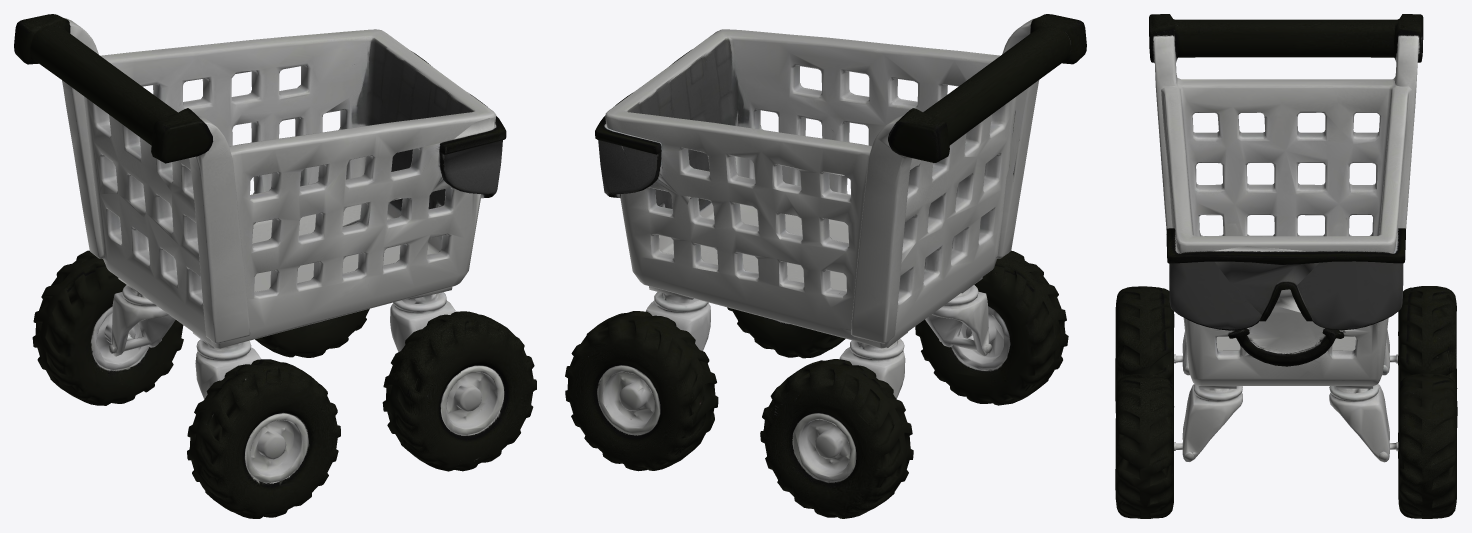
File: cartrave4.glb
3 views of the same model, side by side, from view 1: azimuth 30°, elevation 25°; view 2: azimuth 150°, elevation 25°; view 3: azimuth 270°, elevation 25° (orthographic). The views are drawn at different scales.
Visible parts, largest first — view 1: tripo_part_0, tripo_part_3, tripo_part_2, tripo_part_4, tripo_part_15, tripo_part_10, tripo_part_16, tripo_part_13, tripo_part_1, tripo_part_9, tripo_part_6, tripo_part_5 (+1 smaller); view 2: tripo_part_0, tripo_part_1, tripo_part_4, tripo_part_2, tripo_part_16, tripo_part_10, tripo_part_15, tripo_part_3, tripo_part_5, tripo_part_11, tripo_part_14, tripo_part_13 (+1 smaller); view 3: tripo_part_0, tripo_part_10, tripo_part_1, tripo_part_3, tripo_part_8, tripo_part_11, tripo_part_2, tripo_part_4, tripo_part_9, tripo_part_6, tripo_part_14, tripo_part_16 (+2 smaller).
Part boxes in pixels (box(x1,y1,x2,y2)): tripo_part_0: box(84, 29, 496, 348); tripo_part_3: box(382, 311, 536, 471); tripo_part_2: box(187, 359, 340, 518); tripo_part_4: box(32, 250, 183, 405); tripo_part_15: box(151, 108, 250, 343); tripo_part_10: box(30, 25, 177, 145); tripo_part_16: box(14, 14, 103, 258); tripo_part_13: box(108, 278, 175, 356); tripo_part_1: box(255, 308, 369, 357); tripo_part_9: box(439, 140, 502, 198); tripo_part_6: box(390, 287, 455, 351); tripo_part_5: box(193, 332, 260, 399); tripo_part_0: box(605, 29, 1015, 348); tripo_part_1: box(565, 311, 718, 471); tripo_part_4: box(760, 359, 913, 518); tripo_part_2: box(915, 250, 1068, 405); tripo_part_16: box(851, 108, 949, 343); tripo_part_10: box(923, 26, 1070, 145); tripo_part_15: box(997, 14, 1086, 258); tripo_part_3: box(727, 307, 845, 358); tripo_part_5: box(925, 277, 989, 356); tripo_part_11: box(598, 140, 661, 197); tripo_part_14: box(646, 286, 710, 350); tripo_part_13: box(839, 332, 907, 398); tripo_part_0: box(1161, 78, 1411, 385); tripo_part_10: box(1172, 19, 1398, 57); tripo_part_1: box(1397, 373, 1457, 518); tripo_part_3: box(1115, 374, 1174, 518); tripo_part_8: box(1166, 228, 1405, 321); tripo_part_11: box(1297, 261, 1403, 330); tripo_part_2: box(1115, 286, 1175, 412); tripo_part_4: box(1397, 286, 1457, 395); tripo_part_9: box(1169, 261, 1261, 330); tripo_part_6: box(1182, 384, 1242, 461); tripo_part_14: box(1329, 384, 1389, 462); tripo_part_16: box(1394, 14, 1423, 228).
Size of the model in its own units: 0.9334 by 1 by 0.8309.
Materials: 24 (24 with a texture image).
